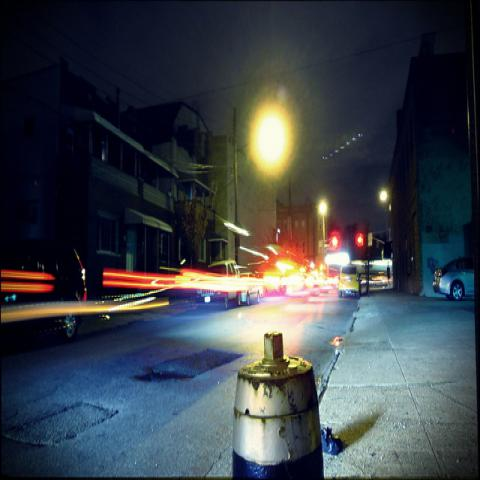car: (1, 240, 89, 344), (196, 259, 240, 308), (434, 257, 474, 302), (237, 273, 265, 307), (338, 264, 360, 300), (263, 276, 287, 296)
